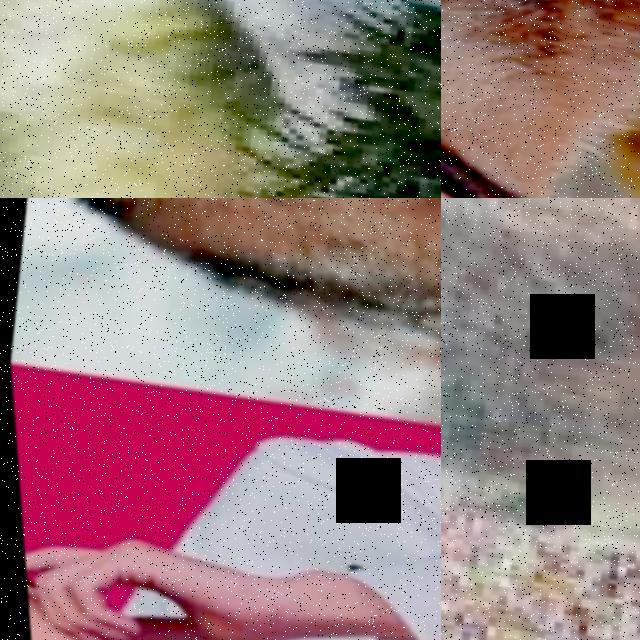wolf: (0, 198, 441, 446), (0, 0, 441, 198), (441, 198, 640, 636), (441, 0, 640, 198)
